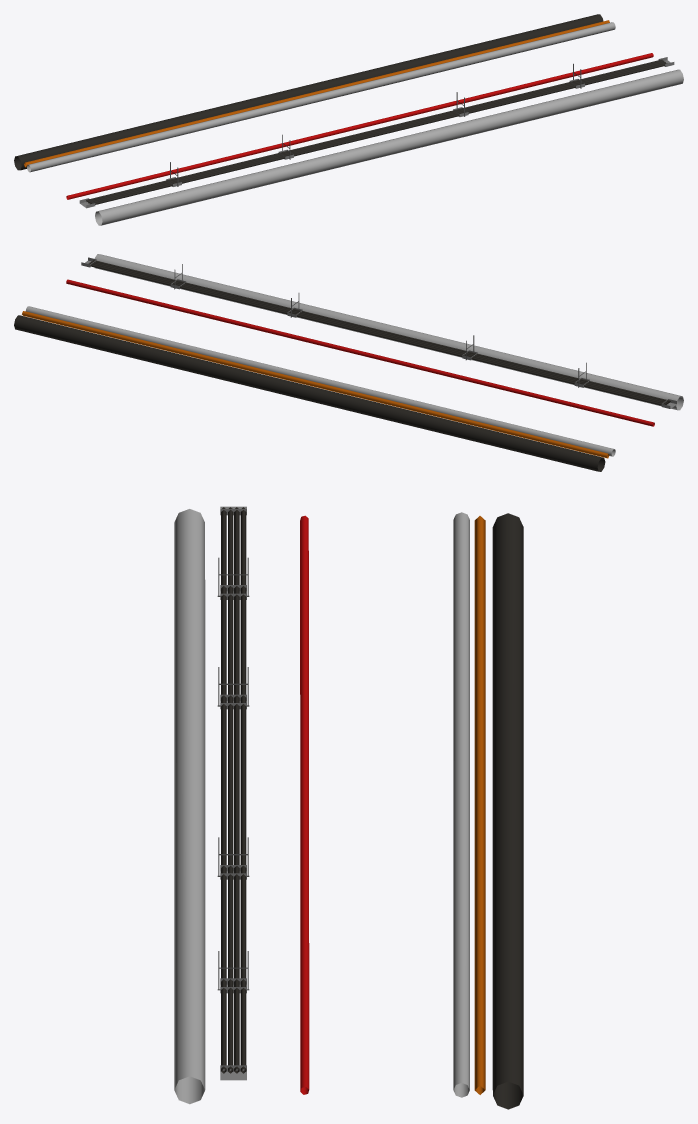
Rendered from SM_H_Building_Tide_Hall_05b_ATLAS.fbx.
3 views of the same model, one above another, from view 1: azimuth 30°, elevation 25°; view 2: azimuth 150°, elevation 25°; view 3: azimuth 270°, elevation 25° (orthographic). The views are drawn at different scales.
Parts seen in each view (by area): view 1: SM_H_Building_Tide_Hall_05b_ATLAS; view 2: SM_H_Building_Tide_Hall_05b_ATLAS; view 3: SM_H_Building_Tide_Hall_05b_ATLAS.
Part boxes in pixels (box(x1,y1,x2,y2)): SM_H_Building_Tide_Hall_05b_ATLAS: box(14, 14, 683, 225); SM_H_Building_Tide_Hall_05b_ATLAS: box(14, 254, 683, 471); SM_H_Building_Tide_Hall_05b_ATLAS: box(174, 506, 523, 1109).
Bounding box in the file's own units: 1234 × 318 × 69.23.
